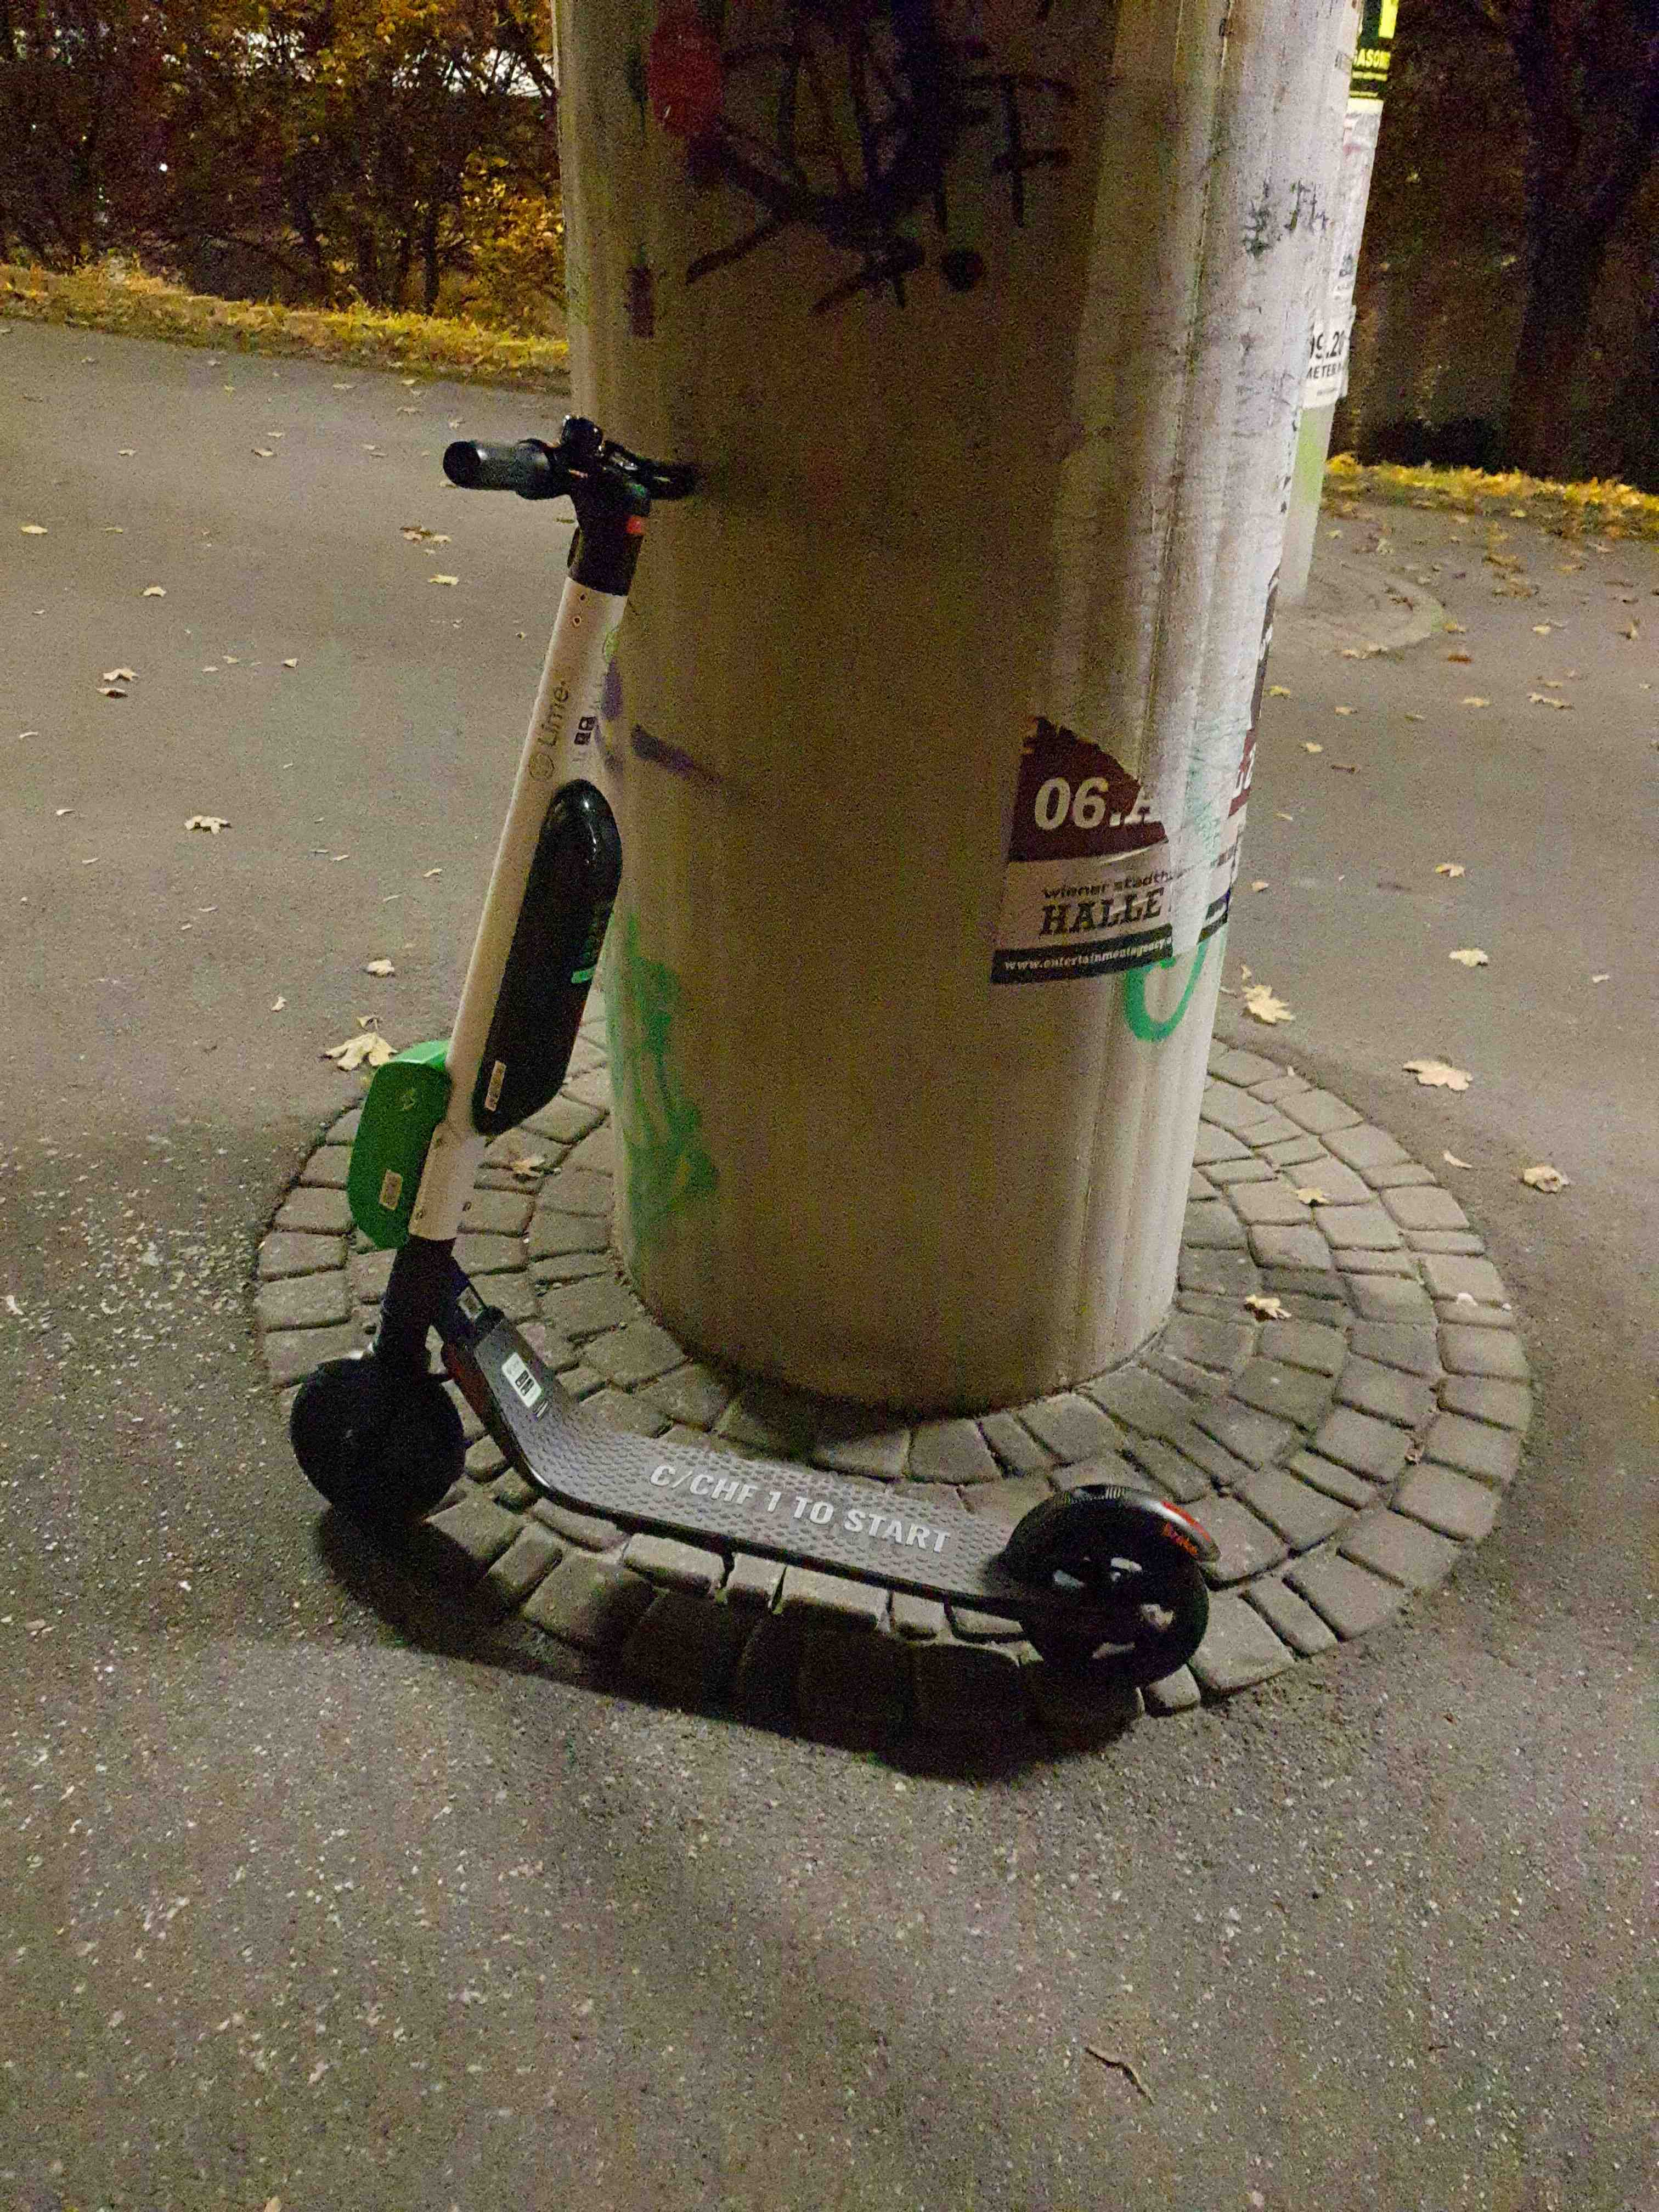scooter: (240, 399, 1256, 1747)
